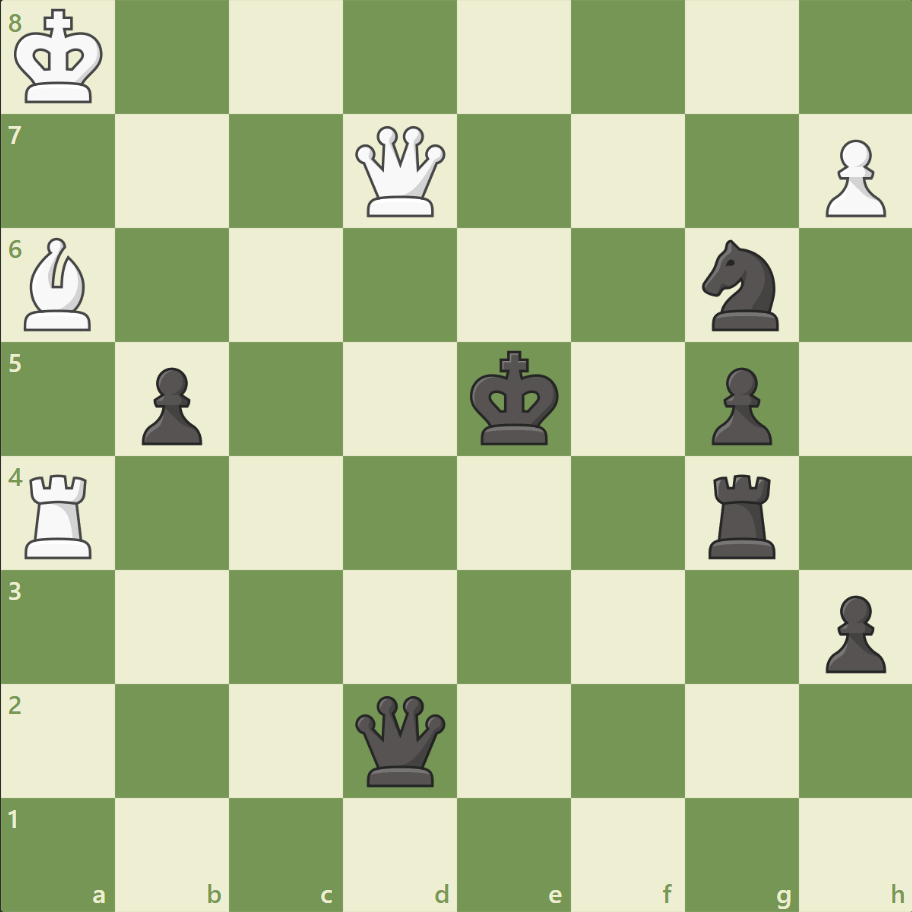B: (17, 233, 101, 336)
K: (11, 4, 111, 112)
P: (815, 132, 889, 223)
Q: (351, 122, 450, 222)
R: (19, 466, 102, 563)
k: (465, 344, 565, 452)
n: (692, 234, 789, 337)
p: (133, 359, 208, 450), (701, 359, 776, 450), (815, 586, 889, 677)
q: (351, 690, 450, 789)
r: (700, 466, 783, 563)
